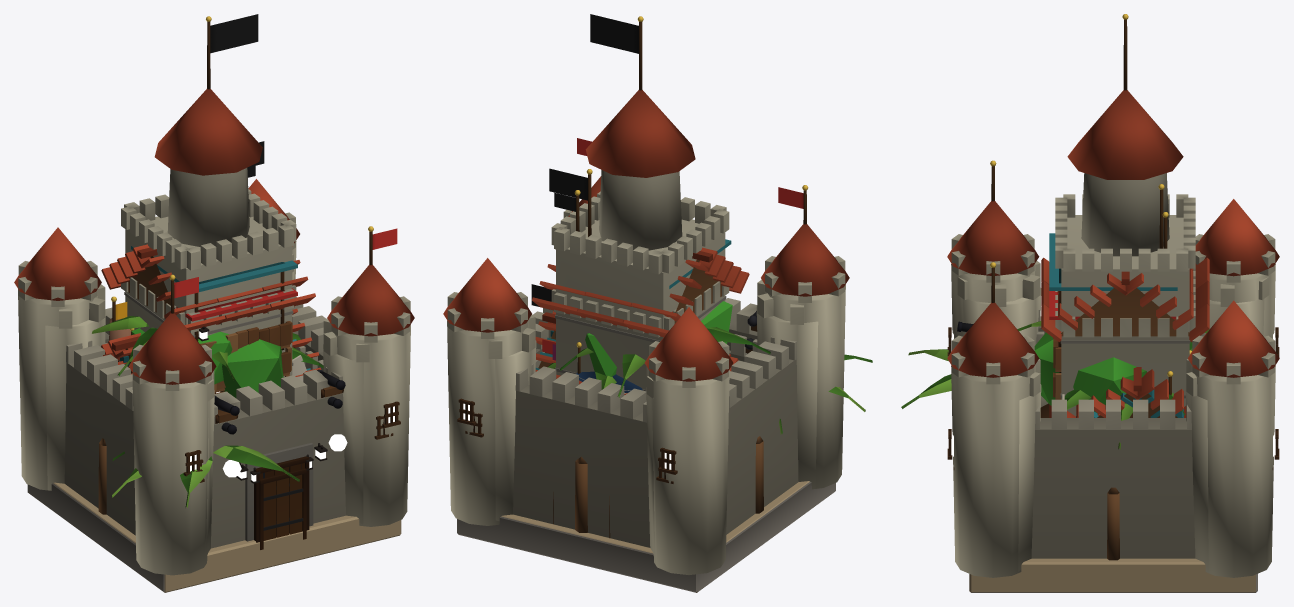
The picture shows the model from 3 angles, left to right: view 1: azimuth 30°, elevation 25°; view 2: azimuth 150°, elevation 25°; view 3: azimuth 270°, elevation 25°; orthographic projection. The views are drawn at different scales.
Visible parts, largest first — view 1: keep3, keep2, keep1, jtree0, musket_b3, lumber1, musket_b2, store3, palm1; view 2: keep3, keep2, keep1, jtree0, palm1, musket_b3, store3; view 3: keep3, keep2, keep1, jtree0, store3, musket_b3, lumber1, palm0, musket_b2.
Part boxes in pixels (box(x1,y1,x2,y2)): keep3: box(14, 14, 414, 591); keep2: box(45, 141, 393, 563); keep1: box(45, 438, 401, 592); jtree0: box(131, 328, 283, 397); musket_b3: box(131, 166, 297, 353); lumber1: box(111, 445, 299, 507); musket_b2: box(176, 288, 297, 392); store3: box(101, 296, 321, 376); palm1: box(92, 316, 234, 380); keep3: box(443, 14, 849, 591); keep2: box(457, 168, 818, 592); keep1: box(501, 284, 823, 592); jtree0: box(585, 301, 732, 376); palm1: box(560, 327, 770, 397); musket_b3: box(554, 190, 731, 288); store3: box(535, 311, 738, 394); keep3: box(947, 14, 1279, 577); keep2: box(953, 184, 1273, 592); keep1: box(969, 404, 1255, 592); jtree0: box(1034, 332, 1192, 413); store3: box(1067, 367, 1186, 417); musket_b3: box(1049, 212, 1177, 371); lumber1: box(901, 349, 951, 408); palm0: box(1064, 390, 1185, 449); musket_b2: box(1049, 291, 1176, 399).
Size of the model in its own units: 8.97 by 14.28 by 9.45.
